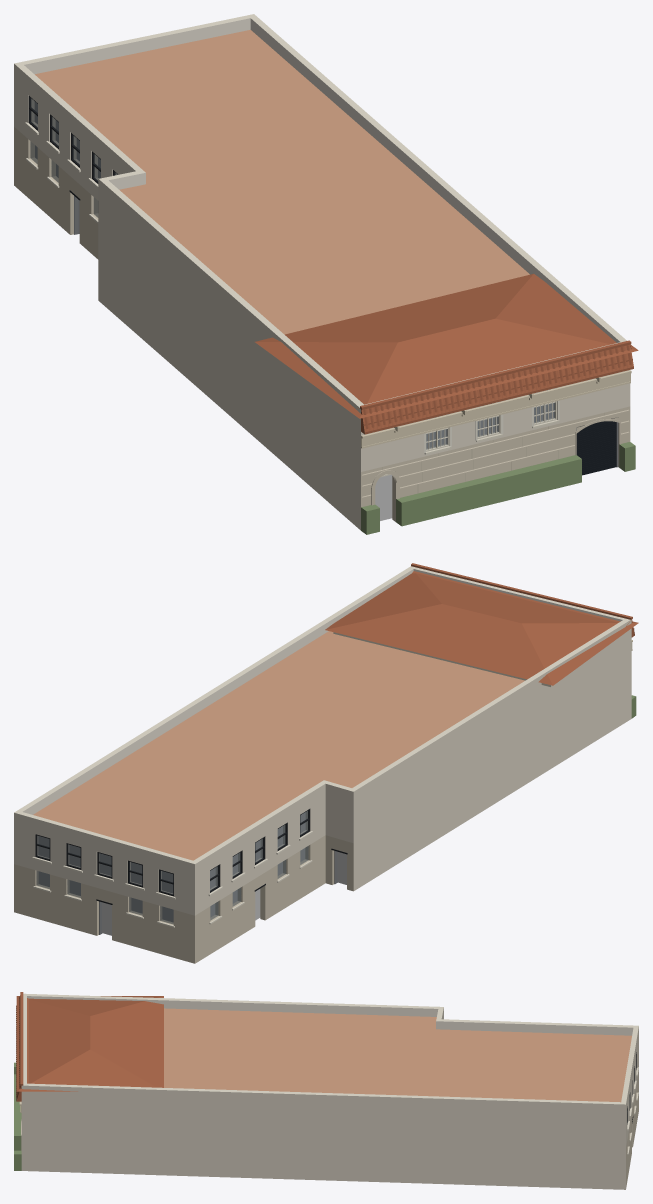
Rendered from exterior.glb.
3 views of the same model, one above another, from view 1: azimuth 30°, elevation 25°; view 2: azimuth 150°, elevation 25°; view 3: azimuth 270°, elevation 25° (orthographic). The views are drawn at different scales.
Parts seen in each view (by area): view 1: roof, shell, relief-4, plinth, tile-roof, cornice-band, tile-barrels, storefront, glazing, frames, shadow-proxy, hyD-rubble-4 (+1 smaller); view 2: shell, roof, relief-4, glazing, shadow-proxy, tile-roof, frames, trim; view 3: shell, roof, relief-4, plinth, tile-roof.
Part boxes in pixels (x1=…): roof: x1=35, y1=30, x2=529, y2=334; shell: x1=14, y1=14, x2=630, y2=530; relief-4: x1=255, y1=273, x2=638, y2=418; plinth: x1=361, y1=442, x2=635, y2=534; tile-roof: x1=355, y1=340, x2=633, y2=434; cornice-band: x1=361, y1=370, x2=631, y2=448; tile-barrels: x1=363, y1=345, x2=632, y2=428; storefront: x1=69, y1=190, x2=618, y2=476; glazing: x1=30, y1=98, x2=554, y2=449; frames: x1=28, y1=95, x2=556, y2=451; shadow-proxy: x1=35, y1=102, x2=553, y2=520; hyD-rubble-4: x1=362, y1=409, x2=628, y2=497; shell: x1=14, y1=566, x2=631, y2=963; roof: x1=33, y1=631, x2=524, y2=860; relief-4: x1=325, y1=573, x2=638, y2=686; glazing: x1=36, y1=811, x2=308, y2=924; shadow-proxy: x1=38, y1=812, x2=346, y2=935; tile-roof: x1=411, y1=563, x2=634, y2=637; frames: x1=35, y1=809, x2=309, y2=896; trim: x1=32, y1=831, x2=312, y2=927; shell: x1=21, y1=993, x2=638, y2=1189; roof: x1=164, y1=1008, x2=631, y2=1102; relief-4: x1=16, y1=996, x2=163, y2=1091; plinth: x1=14, y1=1062, x2=21, y2=1170; tile-roof: x1=16, y1=992, x2=28, y2=1101.
Size of the model in its own units: 17.57 by 6.71 by 41.21.
